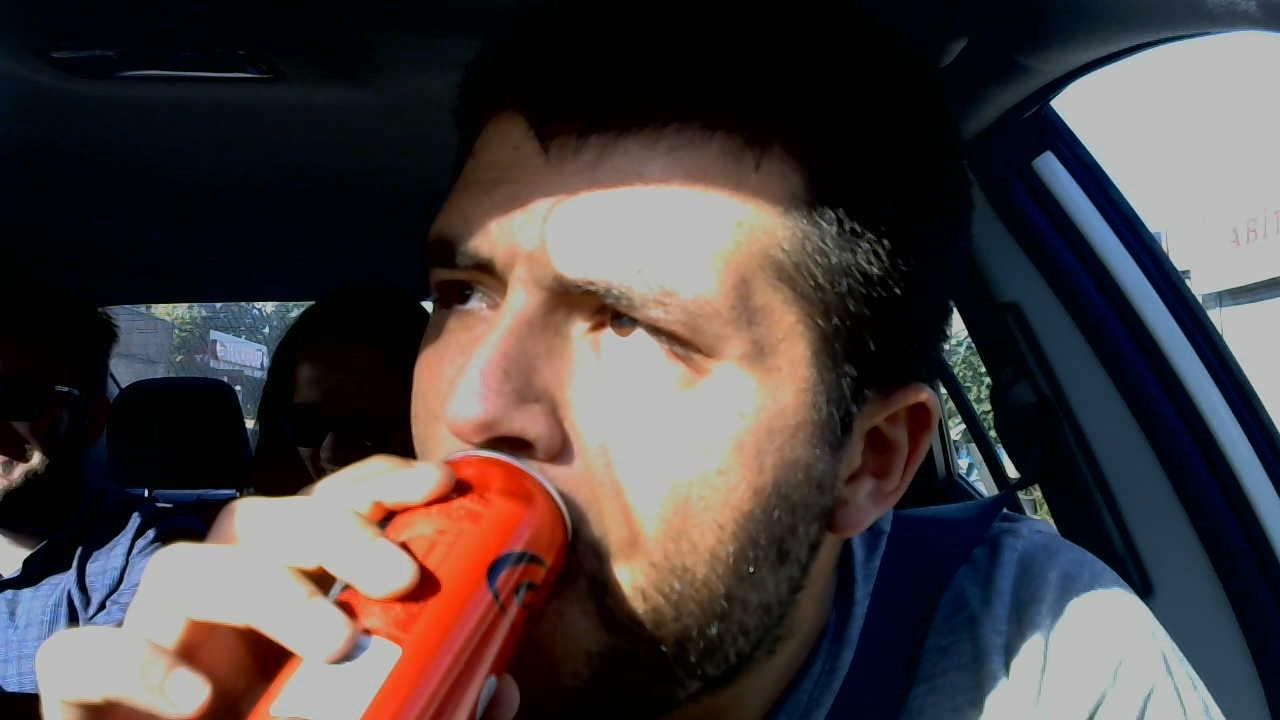Drinking: (232, 98, 939, 720)
